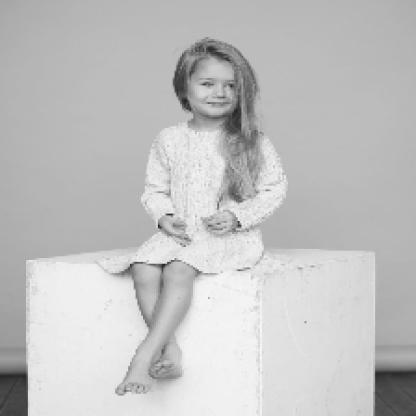child: (97, 38, 290, 398)
